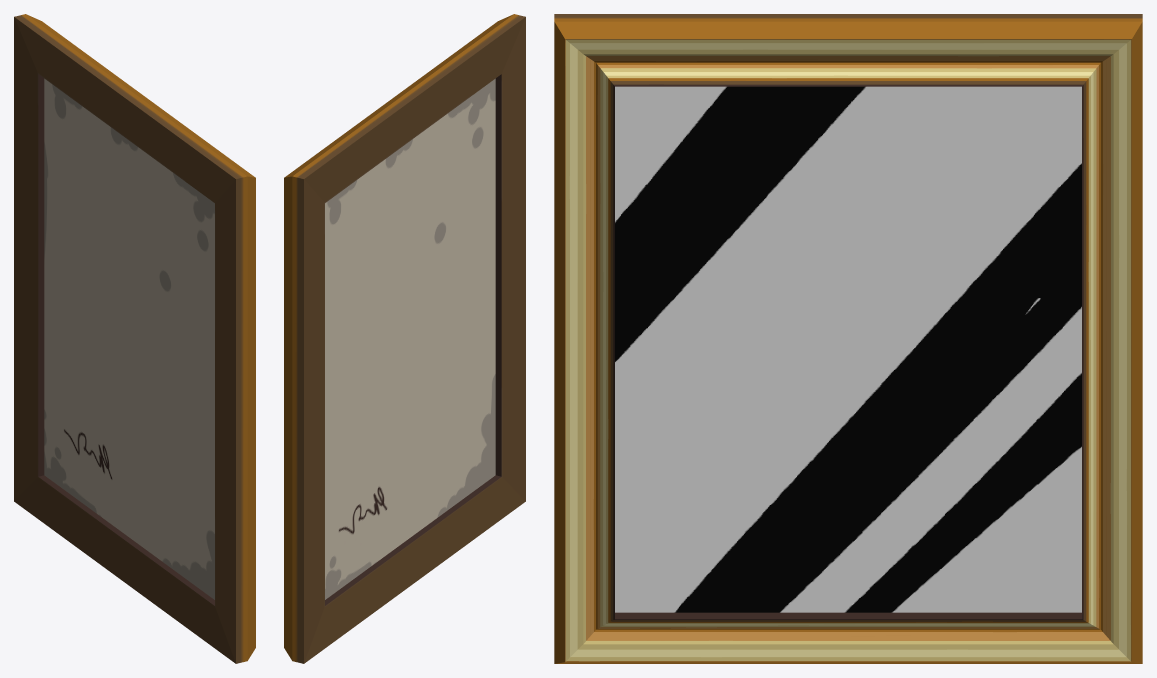
File: SmilingLady.fbx
3 views of the same model, side by side, from view 1: azimuth 30°, elevation 25°; view 2: azimuth 150°, elevation 25°; view 3: azimuth 270°, elevation 25° (orthographic). The views are drawn at different scales.
Parts seen in each view (by area): view 1: back, frame; view 2: back, frame; view 3: glass, frame.
Boxes of the visible parts, x1,y1,x2,y2 form: back: (44, 78, 214, 599); frame: (14, 14, 255, 663); back: (325, 78, 495, 599); frame: (284, 14, 525, 663); glass: (615, 86, 1081, 612); frame: (554, 14, 1142, 663).
Size of the model in its own units: 4.47 by 76 by 63.06.
Materials: 3 (3 with a texture image).
